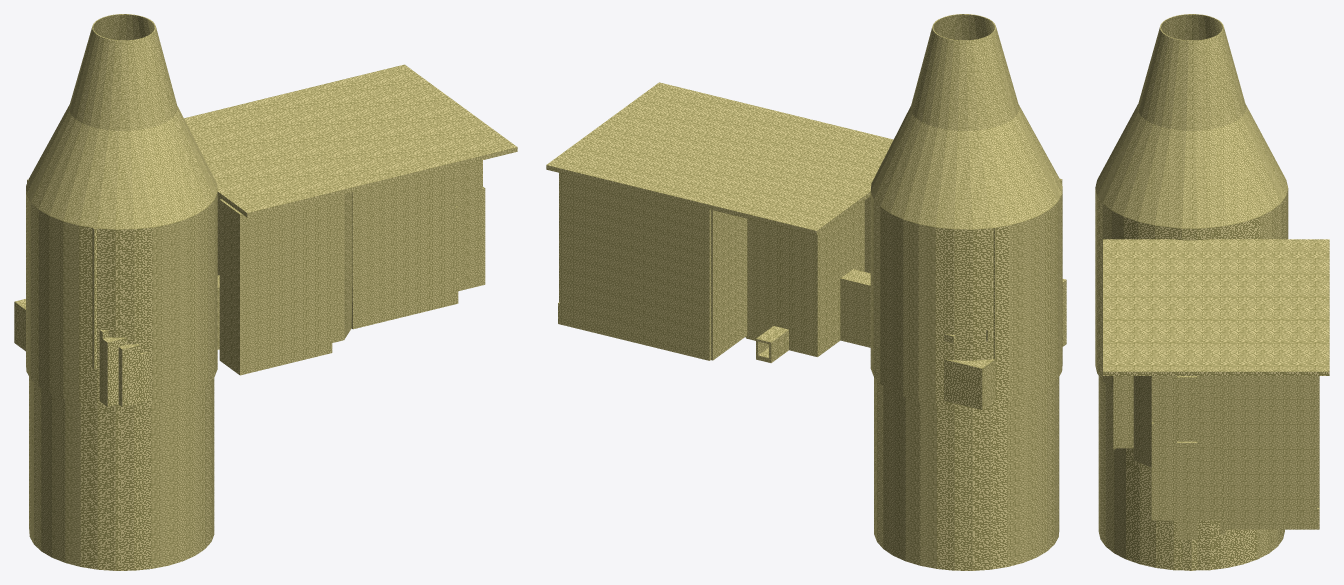
The model's file is temple.glb.
3 renders of one model, left to right at view 1: azimuth 30°, elevation 25°; view 2: azimuth 150°, elevation 25°; view 3: azimuth 270°, elevation 25°, orthographic.
Parts seen in each view (by area): view 1: Cylinder-col, Cube-col.007, ceiling-col, Cylinder-col.001, Cube-col.006, Cube-col; view 2: Cylinder-col, Cube-col.007, ceiling-col, Cylinder-col.001, Cube.001-col.002; view 3: ceiling-col, Cube-col.007, Cylinder-col.001, Cylinder-col.
Boxes of the visible parts, x1,y1,x2,y2 form: Cylinder-col: (26, 191, 217, 570); Cube-col.007: (217, 160, 485, 375); ceiling-col: (184, 64, 517, 217); Cylinder-col.001: (26, 14, 217, 229); Cube-col.006: (99, 329, 149, 406); Cube-col: (27, 179, 96, 369); Cylinder-col: (870, 189, 1062, 570); Cube-col.007: (558, 173, 870, 362); ceiling-col: (546, 82, 893, 235); Cylinder-col.001: (870, 14, 1062, 229); Cube.001-col.002: (944, 329, 995, 409); ceiling-col: (1103, 239, 1329, 375); Cube-col.007: (1113, 376, 1319, 539); Cylinder-col.001: (1095, 14, 1287, 228); Cylinder-col: (1095, 188, 1288, 570).
Size of the model in its own units: 200 by 219 by 92.08.
Materials: 3 (2 with a texture image).
